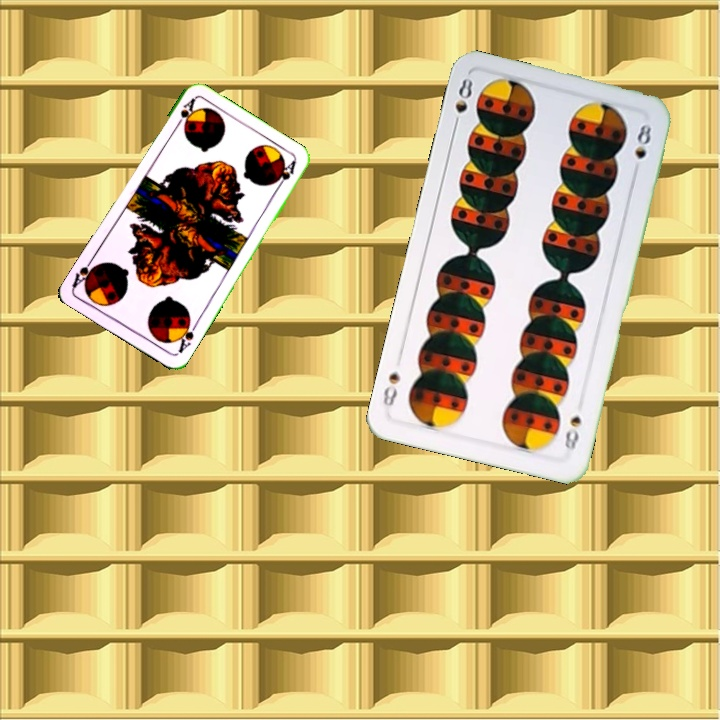S8: (449, 74, 476, 132), (559, 412, 584, 453)
SA: (172, 316, 200, 356), (171, 94, 198, 131)
